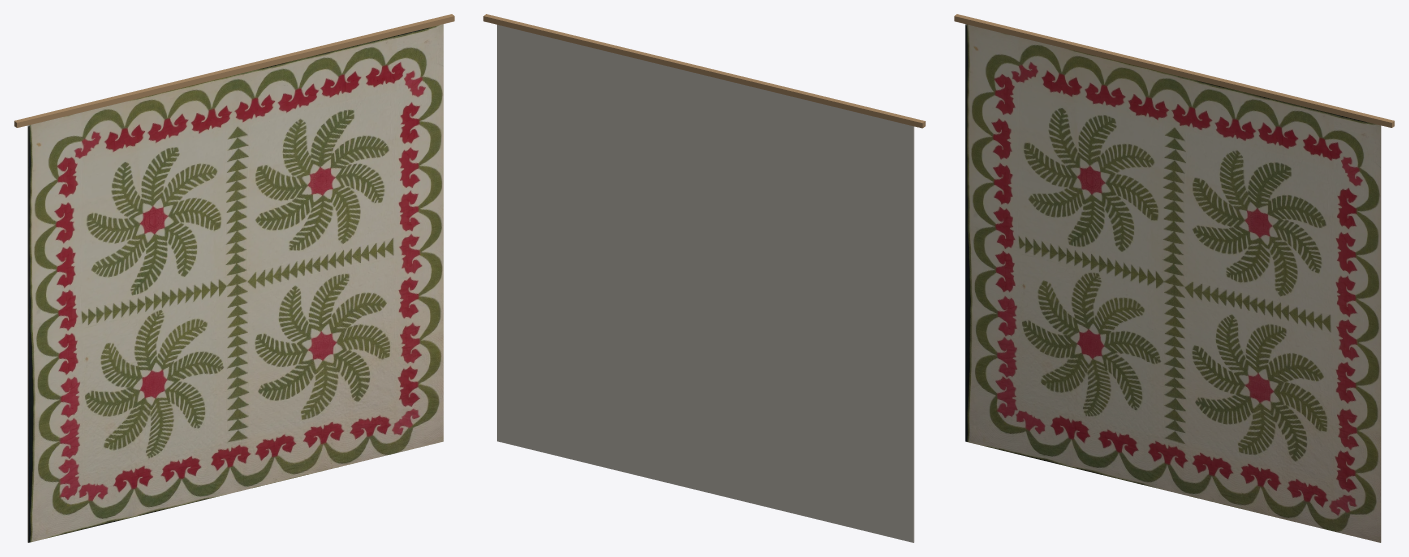
The model's file is tapestry-princess-feather.glb.
3 views of the same model, side by side, from view 1: azimuth 30°, elevation 25°; view 2: azimuth 150°, elevation 25°; view 3: azimuth 330°, elevation 25° (orthographic).
Parts seen in each view (by area): view 1: tapestry-princess-feather; view 2: tapestry-princess-feather; view 3: tapestry-princess-feather.
Part boxes in pixels (<box>): tapestry-princess-feather: <box>14,14,454,542</box>; tapestry-princess-feather: <box>483,14,925,542</box>; tapestry-princess-feather: <box>954,14,1394,542</box>.
Size of the model in its own units: 1.58 by 1.46 by 0.0179.
3 materials, 1 textured.
